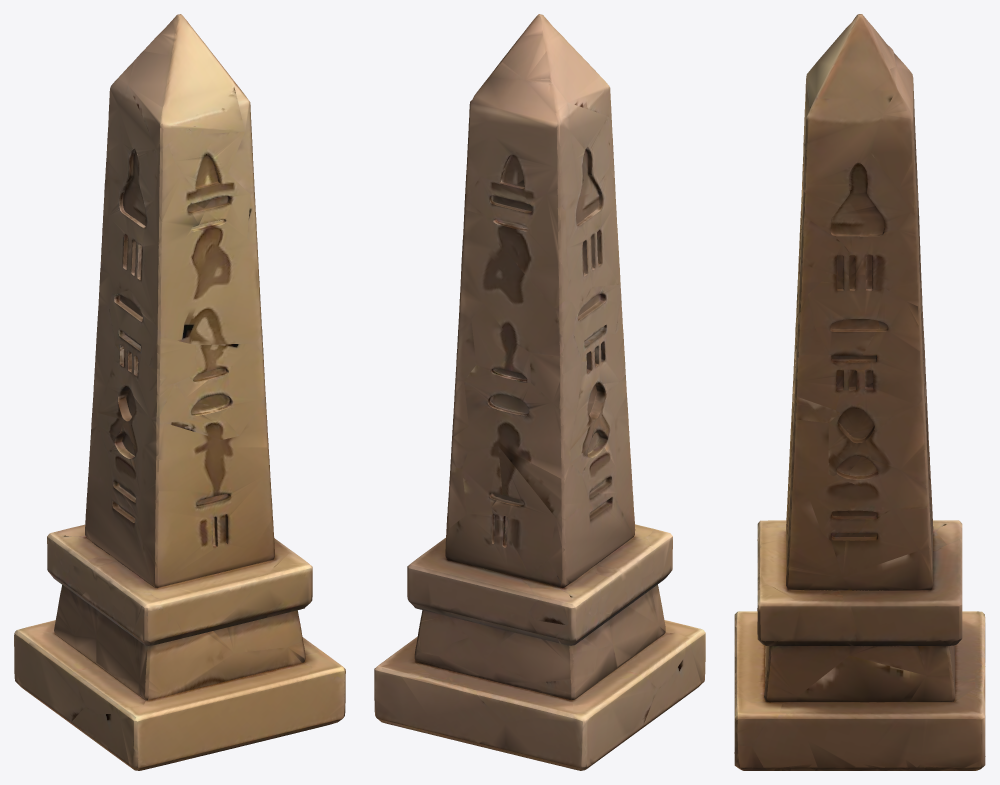
Rendered from obelisk_pbr.glb.
The picture shows the model from 3 angles, left to right: view 1: azimuth 30°, elevation 25°; view 2: azimuth 150°, elevation 25°; view 3: azimuth 270°, elevation 25°; orthographic projection. The views are drawn at different scales.
Parts seen in each view (by area): view 1: model; view 2: model; view 3: model.
Part boxes in pixels (x1,y1,x2,y2): model: (14,14,345,770); model: (374,14,705,770); model: (734,14,985,770).
Bounding box in the file's own units: 0.5616 × 1.74 × 0.5614.
1 material, 1 textured.
